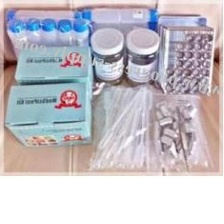book: (3, 79, 95, 150), (11, 43, 98, 106)
